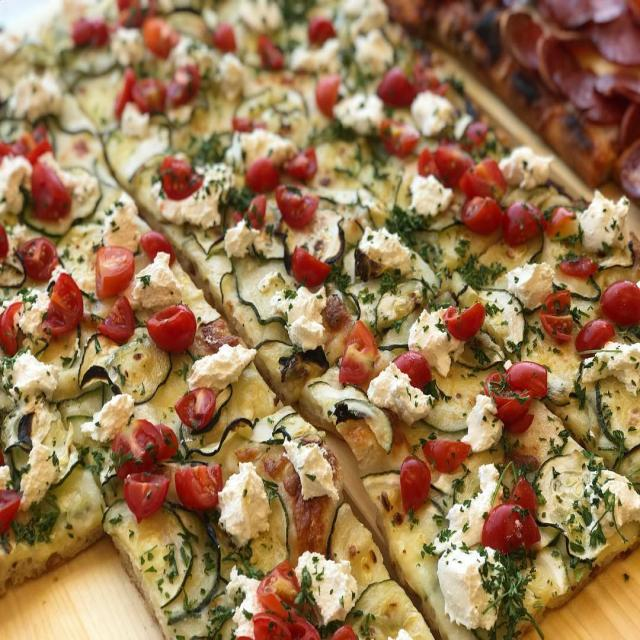pizza: (0, 0, 640, 640)
tomatoes: (481, 504, 542, 551), (256, 560, 308, 615), (29, 161, 71, 223), (113, 422, 159, 478), (43, 272, 82, 335), (146, 307, 199, 351), (339, 322, 377, 383), (126, 471, 170, 522), (94, 245, 136, 298), (160, 155, 204, 202), (600, 278, 640, 326), (175, 464, 222, 504), (251, 613, 320, 640), (400, 455, 431, 514), (174, 388, 218, 429), (542, 289, 574, 345), (461, 160, 508, 198), (276, 184, 315, 229), (441, 303, 487, 340), (376, 70, 419, 109), (98, 297, 135, 341), (462, 197, 504, 235), (504, 202, 542, 244), (424, 438, 472, 471), (576, 318, 616, 357), (292, 247, 331, 287), (390, 353, 432, 390), (230, 192, 270, 230), (19, 238, 60, 275), (0, 301, 26, 357), (380, 120, 418, 158), (507, 364, 548, 398), (144, 18, 178, 58), (434, 150, 474, 183), (505, 476, 542, 511), (282, 148, 318, 182), (496, 401, 537, 429), (244, 161, 280, 192), (170, 67, 199, 105), (316, 72, 341, 116), (112, 70, 136, 115), (143, 233, 174, 267), (0, 488, 22, 533), (136, 82, 165, 114), (152, 423, 178, 458), (485, 378, 522, 402), (304, 20, 340, 44), (542, 207, 573, 234), (416, 148, 439, 182), (560, 258, 596, 278), (258, 38, 282, 68), (217, 25, 237, 55), (231, 116, 268, 132), (23, 132, 52, 152), (73, 18, 91, 48), (92, 23, 110, 45), (331, 626, 357, 640), (468, 124, 486, 144), (0, 226, 10, 259)
